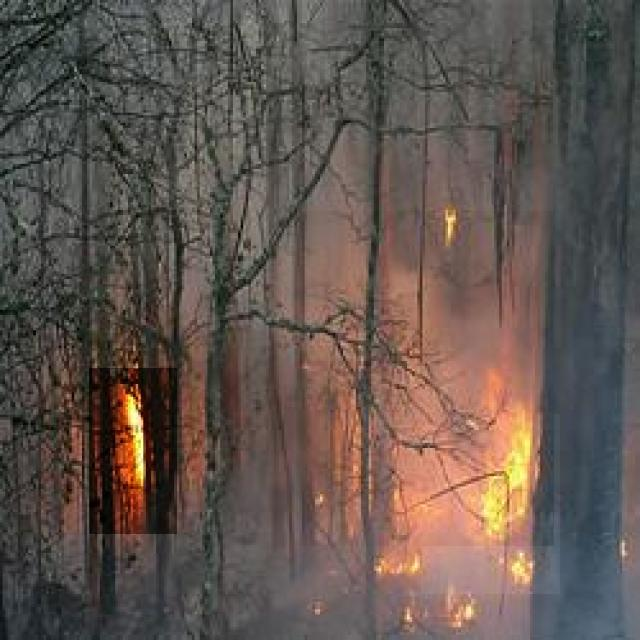Fire: (421, 414, 560, 594), (89, 368, 177, 534)
Smoke: (296, 211, 554, 546)
